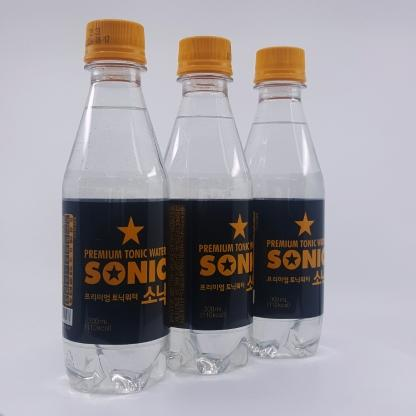----------------300ML: (62, 19, 170, 393), (155, 36, 254, 375), (236, 46, 325, 358)
